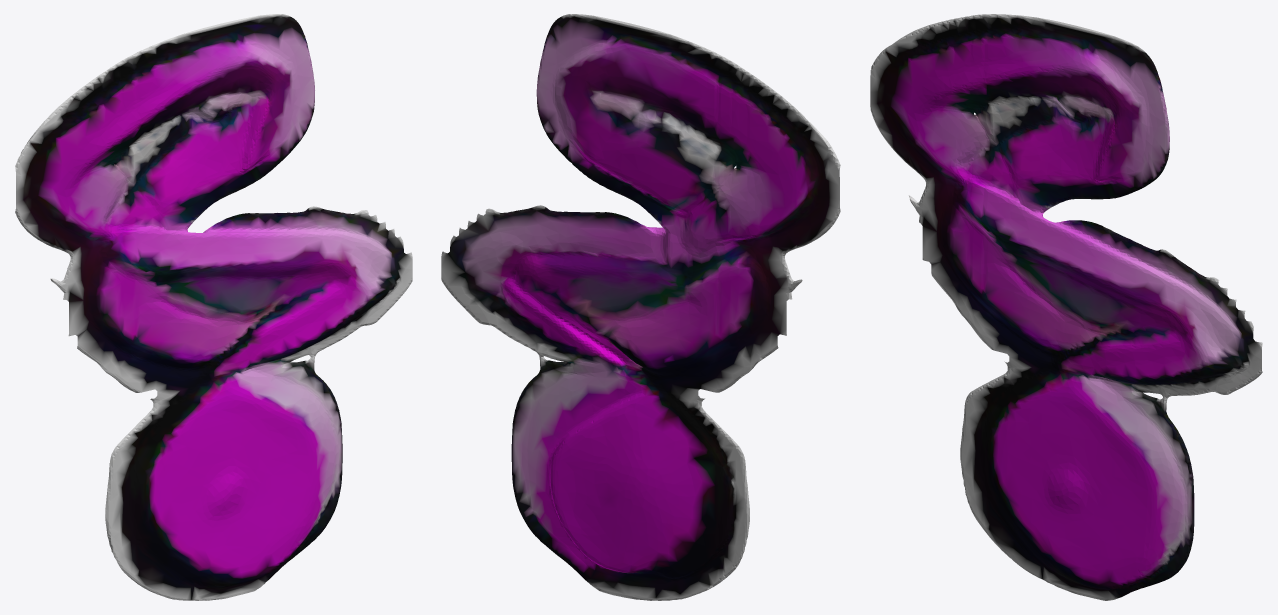
The model's file is amulet_darkmagenta.glb.
The picture shows the model from 3 angles, left to right: view 1: azimuth 30°, elevation 25°; view 2: azimuth 150°, elevation 25°; view 3: azimuth 330°, elevation 25°; orthographic projection.
Parts seen in each view (by area): view 1: geometry_0; view 2: geometry_0; view 3: geometry_0.
Part boxes in pixels (<box>): geometry_0: <box>15,14,412,600</box>; geometry_0: <box>441,14,840,600</box>; geometry_0: <box>870,14,1262,600</box>.
Bounding box in the file's own units: 0.5 × 0.6922 × 0.0354.
